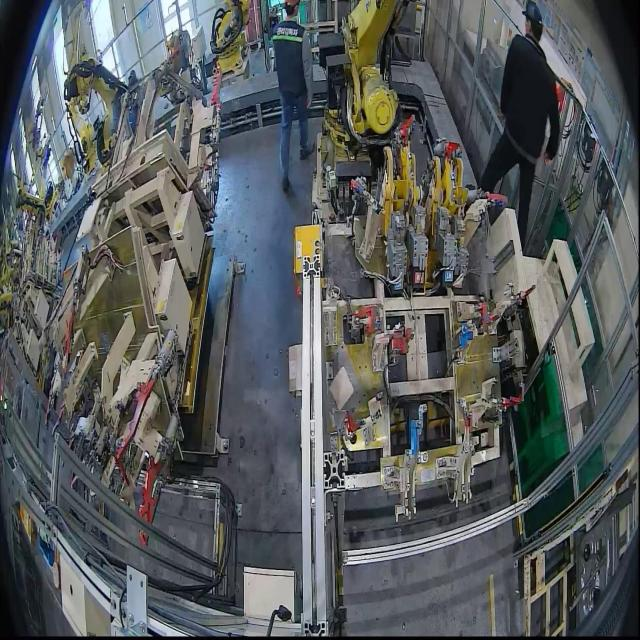Person: (479, 0, 560, 254), (270, 0, 316, 192)
